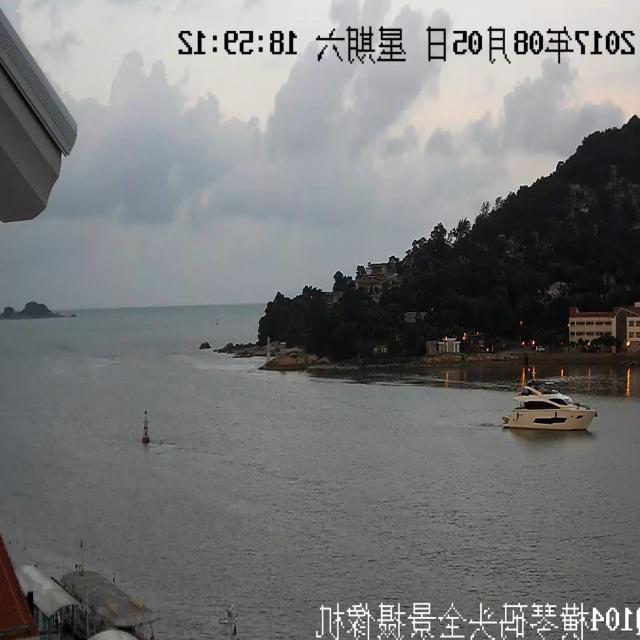buoy: (129, 378, 151, 447)
passenger ship: (500, 378, 607, 449)
reef: (1, 304, 73, 337)
